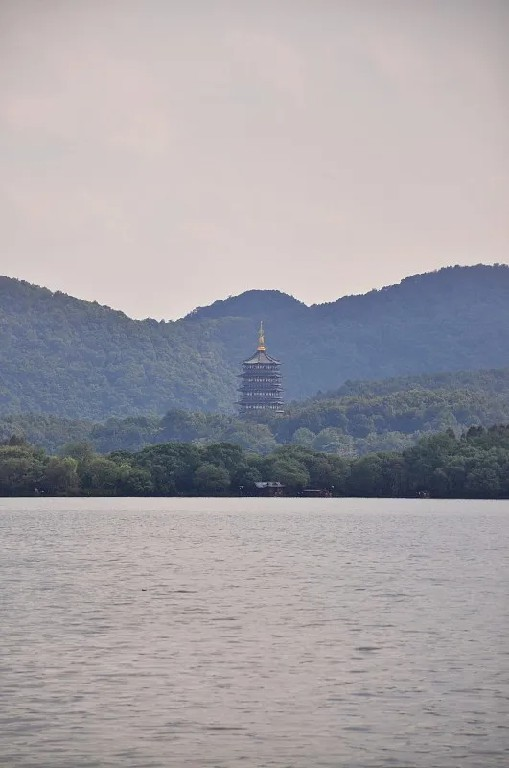Leifeng: (236, 321, 283, 420)
